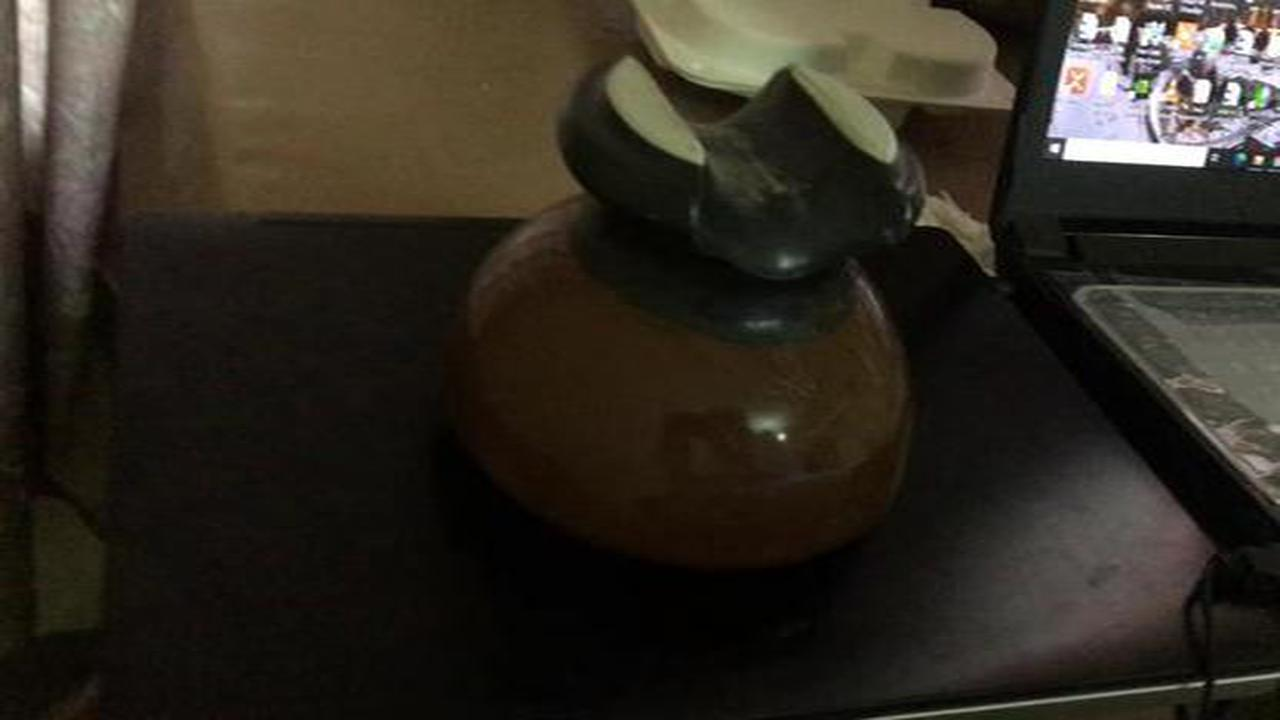insulator_pin: (425, 39, 961, 587)
